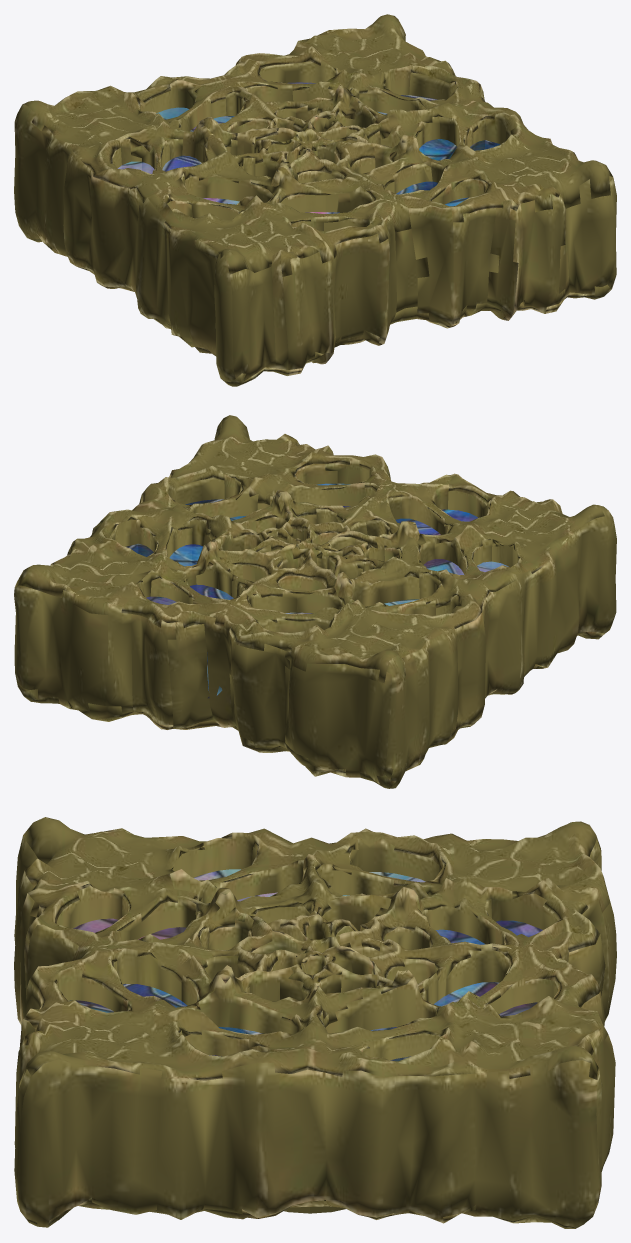
Rendered from tile002V1_lowPolyCompressed.glb.
3 renders of one model, top to bottom at view 1: azimuth 30°, elevation 25°; view 2: azimuth 150°, elevation 25°; view 3: azimuth 270°, elevation 25°, orthographic. The views are drawn at different scales.
Parts seen in each view (by area): view 1: tile3.003; view 2: tile3.003; view 3: tile3.003.
Boxes of the visible parts, box(x1,y1,x2,y2) form: tile3.003: box(14, 14, 616, 386); tile3.003: box(14, 415, 616, 788); tile3.003: box(14, 817, 616, 1228).
Size of the model in its own units: 1 by 0.4785 by 1.01.
3 materials, 3 textured.
